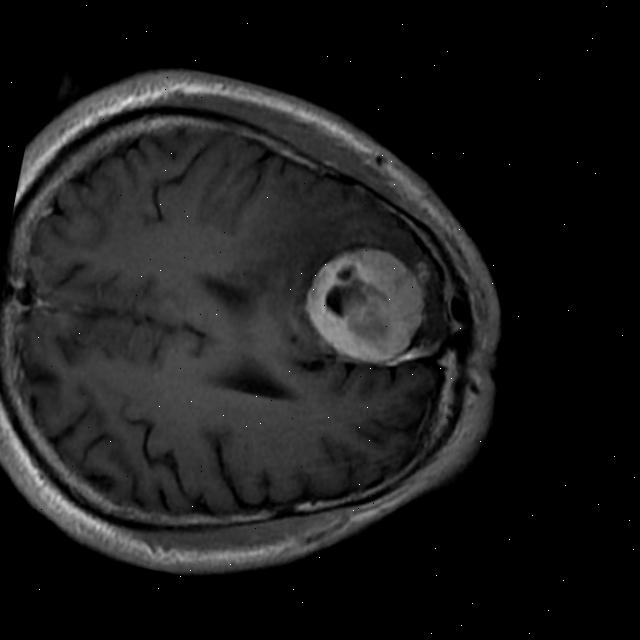Meningioma: (291, 231, 436, 377)
